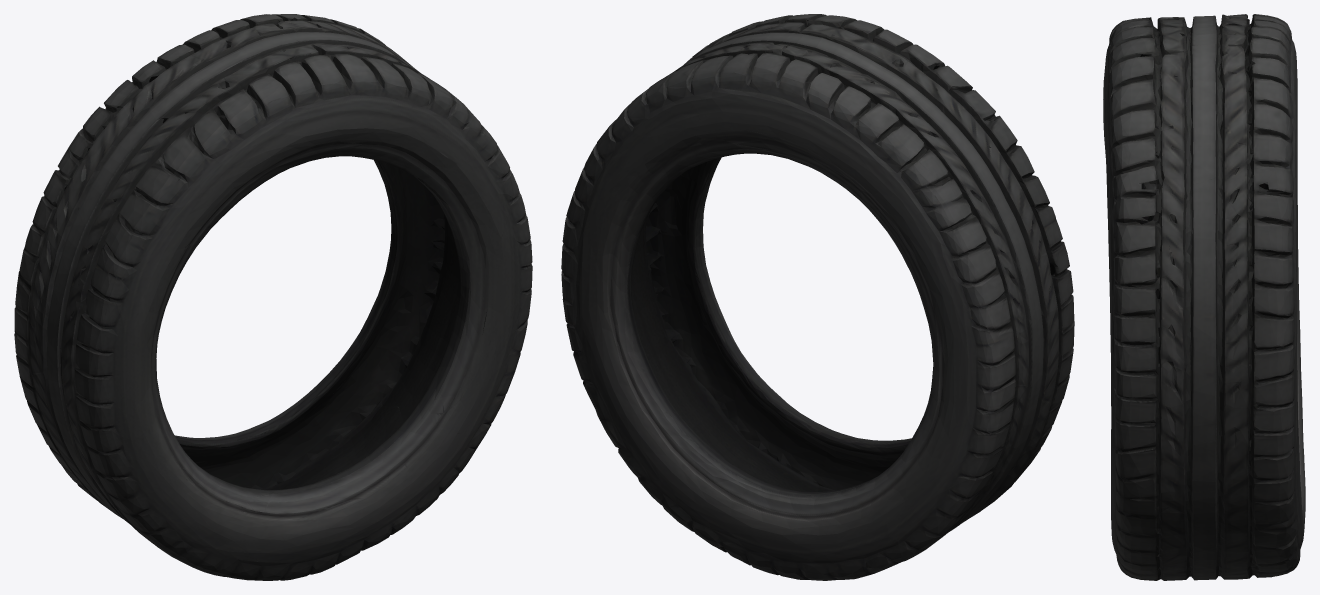
File: m_tyre.glb
3 renders of one model, left to right at view 1: azimuth 30°, elevation 25°; view 2: azimuth 150°, elevation 25°; view 3: azimuth 270°, elevation 25°, orthographic. The views are drawn at different scales.
Visible parts, largest first — view 1: geometry_0; view 2: geometry_0; view 3: geometry_0.
Boxes of the visible parts, x1,y1,x2,y2 form: geometry_0: [14, 14, 532, 580]; geometry_0: [561, 14, 1074, 580]; geometry_0: [1103, 14, 1305, 580].
Bounding box in the file's own units: 0.9021 × 0.9907 × 0.3458.
1 material, 1 textured.
